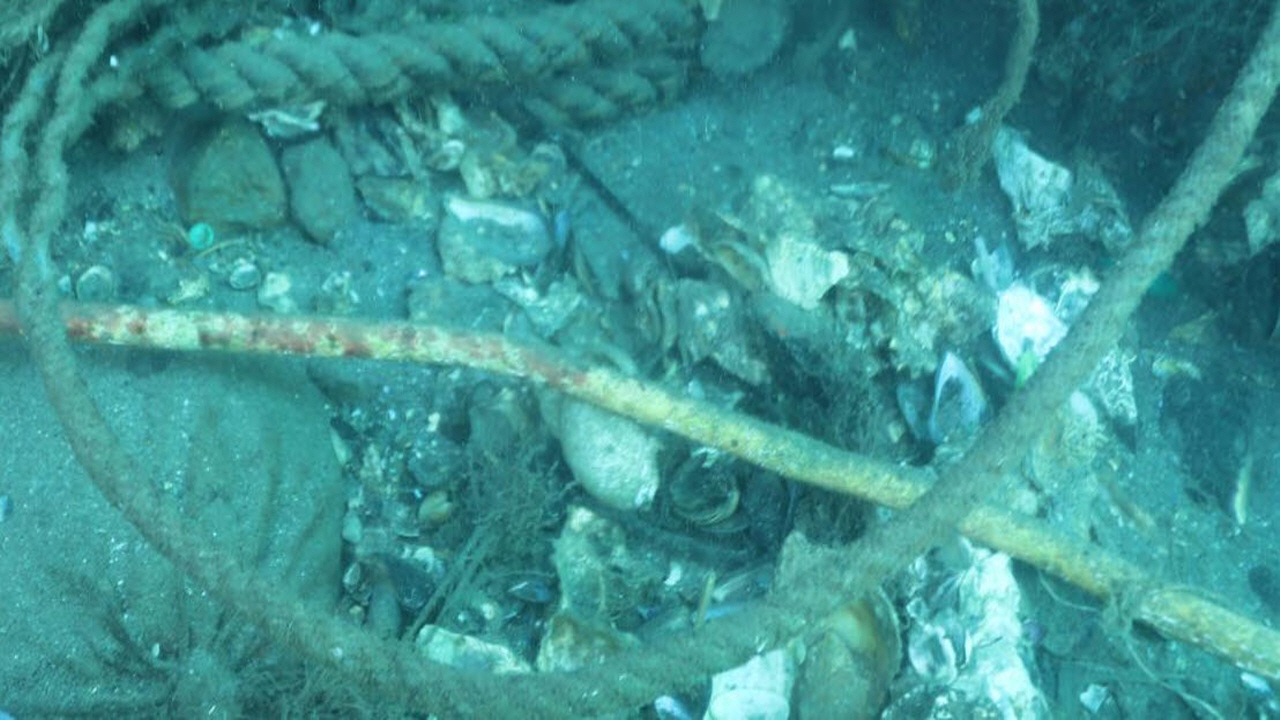bundle of ropes: (147, 0, 701, 140)
rope: (23, 0, 1280, 718)
